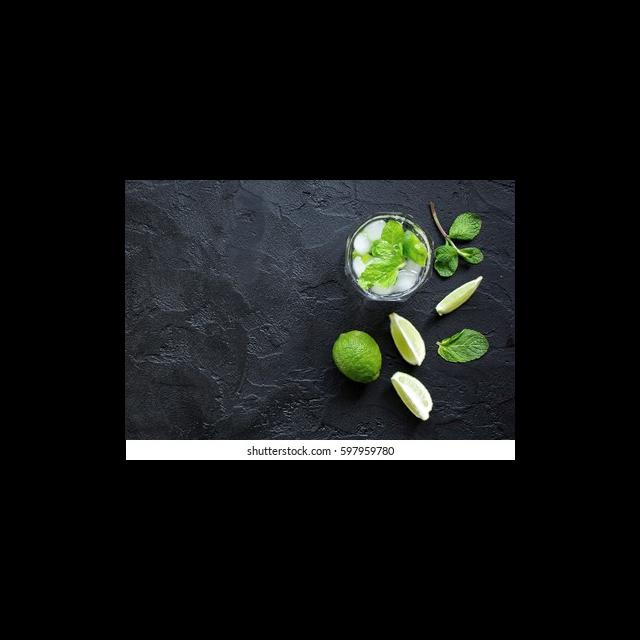lime: (330, 327, 384, 384)
